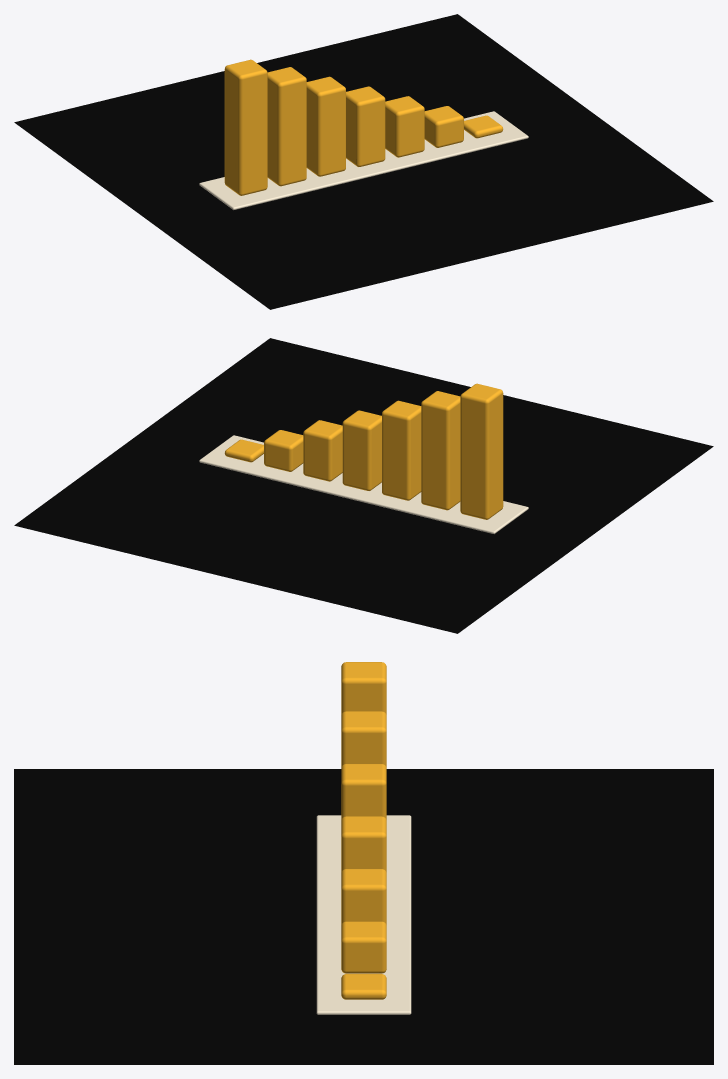
The model's file is sett-scroll-salderen-stopt.glb.
The picture shows the model from 3 angles, top to bottom: view 1: azimuth 30°, elevation 25°; view 2: azimuth 150°, elevation 25°; view 3: azimuth 270°, elevation 25°; orthographic projection. The views are drawn at different scales.
Parts seen in each view (by area): view 1: contact_shadow, scroll_grow, object 2; view 2: contact_shadow, scroll_grow, object 2; view 3: contact_shadow, scroll_grow, object 2.
Boxes of the visible parts, x1,y1,x2,y2 form: contact_shadow: [14, 14, 713, 309]; scroll_grow: [224, 59, 503, 195]; object 2: [199, 111, 528, 209]; contact_shadow: [14, 338, 713, 633]; scroll_grow: [224, 383, 503, 519]; object 2: [199, 435, 528, 533]; contact_shadow: [14, 769, 713, 1064]; scroll_grow: [341, 662, 386, 999]; object 2: [316, 815, 411, 1014].
Size of the model in its own units: 1695 by 450 by 1695.
3 materials, 1 textured.
